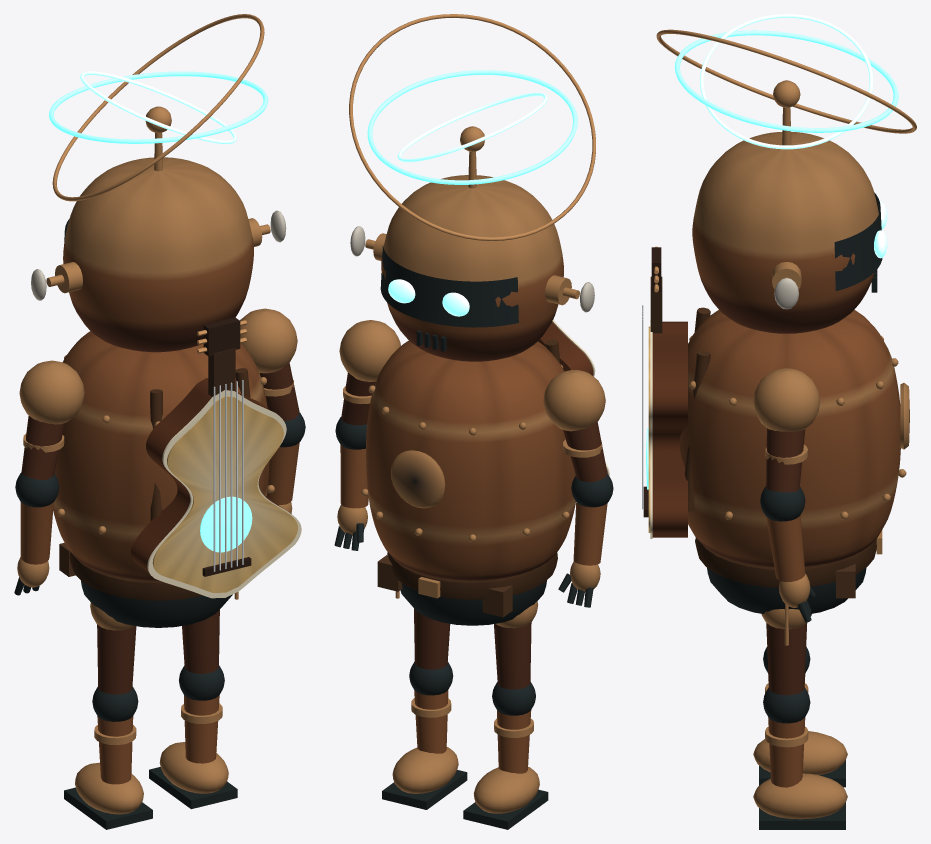
Rendered from robot.glb.
3 renders of one model, left to right at view 1: azimuth 30°, elevation 25°; view 2: azimuth 150°, elevation 25°; view 3: azimuth 270°, elevation 25°, orthographic. The views are drawn at different scales.
Visible parts, largest first — view 1: Robot • cabeza, Robot • torso, Robot • mochila de guitarra, Robot • espinilla y bota.001, Robot • espinilla y bota, Robot • brazo.001, Robot • brazo, Robot • antebrazo y mano.001, Robot • muslo.001, Robot • halo 1, Robot • halo 0, Robot • antebrazo y mano (+3 smaller); view 2: Robot • torso, Robot • cabeza, Robot • espinilla y bota, Robot • espinilla y bota.001, Robot • brazo.001, Robot • antebrazo y mano.001, Robot • brazo, Robot • antebrazo y mano, Robot • halo 1, Robot • halo 0, Robot • muslo.001, Robot • muslo (+3 smaller); view 3: Robot • torso, Robot • cabeza, Robot • mochila de guitarra, Robot • espinilla y bota, Robot • brazo, Robot • antebrazo y mano, Robot • muslo, Robot • halo 0, Robot • espinilla y bota.001, Robot • halo 1, Robot • halo 2.
Boxes of the visible parts, x1,y1,x2,y2 form: Robot • cabeza: [31, 106, 286, 352]; Robot • torso: [53, 331, 274, 627]; Robot • mochila de guitarra: [131, 317, 301, 598]; Robot • espinilla y bota.001: [64, 686, 152, 829]; Robot • espinilla y bota: [149, 665, 237, 809]; Robot • brazo.001: [19, 360, 84, 480]; Robot • brazo: [240, 308, 299, 421]; Robot • antebrazo y mano.001: [14, 472, 59, 595]; Robot • muslo.001: [90, 602, 136, 694]; Robot • halo 1: [52, 14, 264, 201]; Robot • halo 0: [49, 71, 268, 143]; Robot • antebrazo y mano: [266, 412, 305, 513]; Robot • torso: [361, 340, 575, 625]; Robot • cabeza: [350, 126, 594, 361]; Robot • espinilla y bota: [382, 661, 467, 809]; Robot • espinilla y bota.001: [463, 682, 548, 829]; Robot • brazo.001: [543, 370, 607, 482]; Robot • antebrazo y mano.001: [558, 474, 613, 607]; Robot • brazo: [339, 320, 400, 425]; Robot • antebrazo y mano: [334, 416, 368, 550]; Robot • halo 1: [349, 14, 595, 240]; Robot • halo 0: [367, 70, 577, 184]; Robot • muslo.001: [494, 601, 537, 689]; Robot • muslo: [414, 608, 450, 669]; Robot • torso: [679, 310, 909, 645]; Robot • cabeza: [692, 80, 882, 333]; Robot • mochila de guitarra: [642, 246, 710, 538]; Robot • espinilla y bota: [753, 687, 847, 829]; Robot • brazo: [753, 368, 820, 492]; Robot • antebrazo y mano: [760, 486, 815, 622]; Robot • muslo: [761, 609, 811, 695]; Robot • halo 0: [675, 30, 898, 132]; Robot • espinilla y bota.001: [753, 646, 847, 787]; Robot • halo 1: [656, 29, 916, 133]; Robot • halo 2: [700, 14, 873, 149].
Size of the model in its own units: 1.71 by 4.44 by 1.39.
